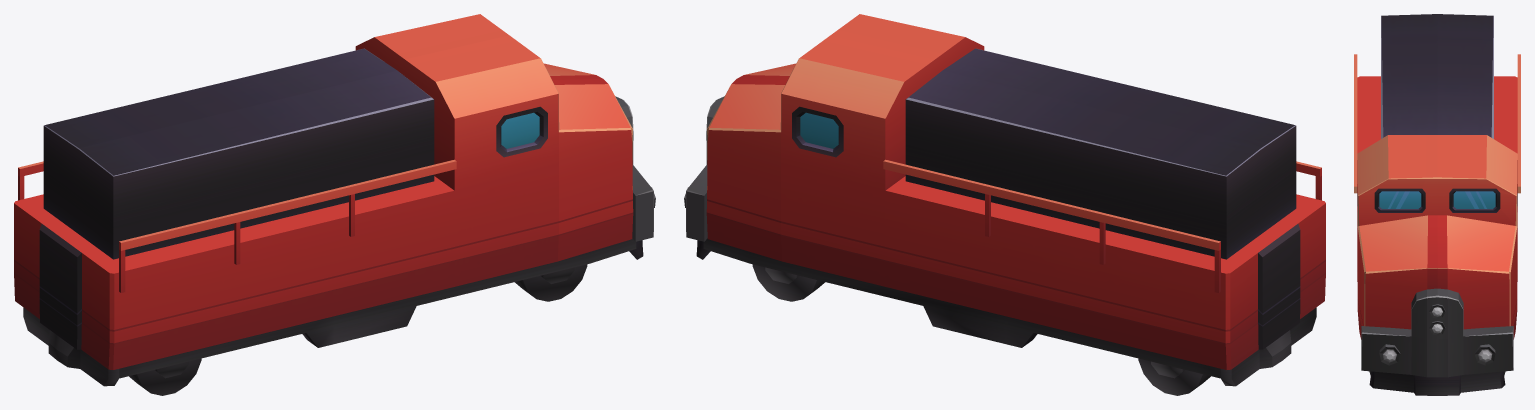
The model's file is Train_3.fbx.
3 views of the same model, side by side, from view 1: azimuth 30°, elevation 25°; view 2: azimuth 150°, elevation 25°; view 3: azimuth 270°, elevation 25° (orthographic). The views are drawn at different scales.
Visible parts, largest first — view 1: Train_3; view 2: Train_3; view 3: Train_3.
Part boxes in pixels (x1,y1,x2,y2): Train_3: [14, 14, 655, 395]; Train_3: [684, 14, 1325, 395]; Train_3: [1354, 14, 1520, 395].
Bounding box in the file's own units: 677 × 272 × 212.
